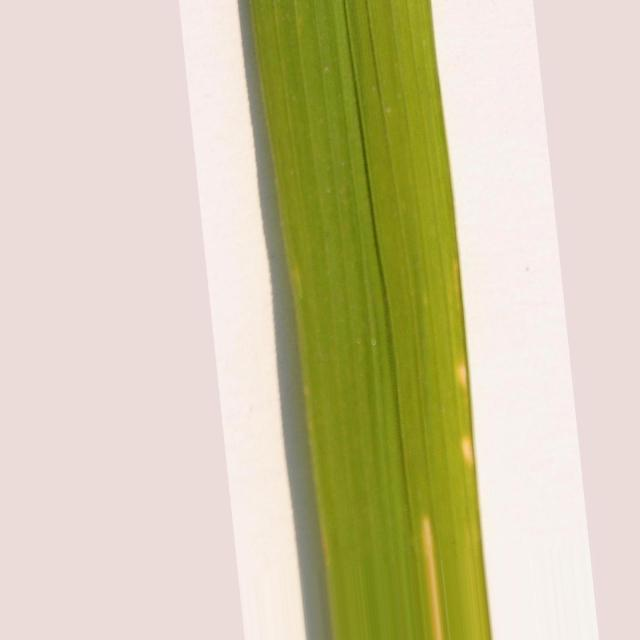Bacterial_Leaf_Blight: (421, 516, 444, 640), (461, 430, 474, 466), (456, 362, 469, 390)
